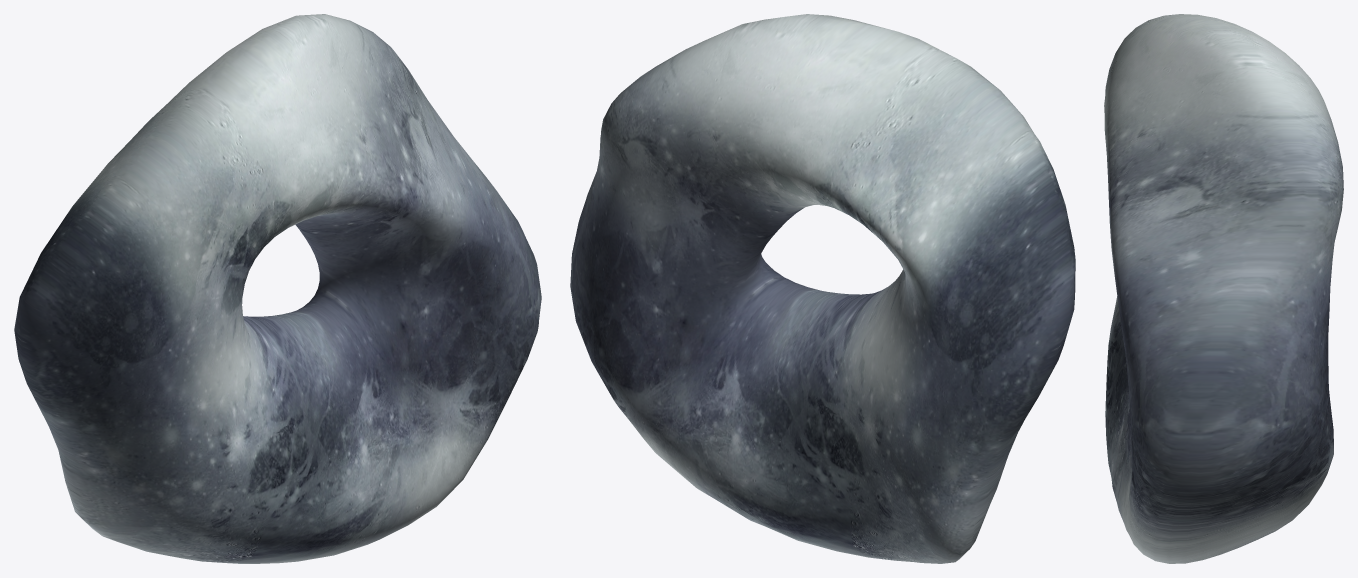
The model's file is Asteroid2.FBX.
3 renders of one model, left to right at view 1: azimuth 30°, elevation 25°; view 2: azimuth 150°, elevation 25°; view 3: azimuth 270°, elevation 25°, orthographic. The views are drawn at different scales.
Parts seen in each view (by area): view 1: Torus01; view 2: Torus01; view 3: Torus01.
Part boxes in pixels (x1=…): Torus01: x1=14, y1=14, x2=541, y2=563; Torus01: x1=570, y1=14, x2=1075, y2=563; Torus01: x1=1104, y1=14, x2=1343, y2=563.
Bounding box in the file's own units: 100 × 43.03 × 102.
Materials: 1 (1 with a texture image).
